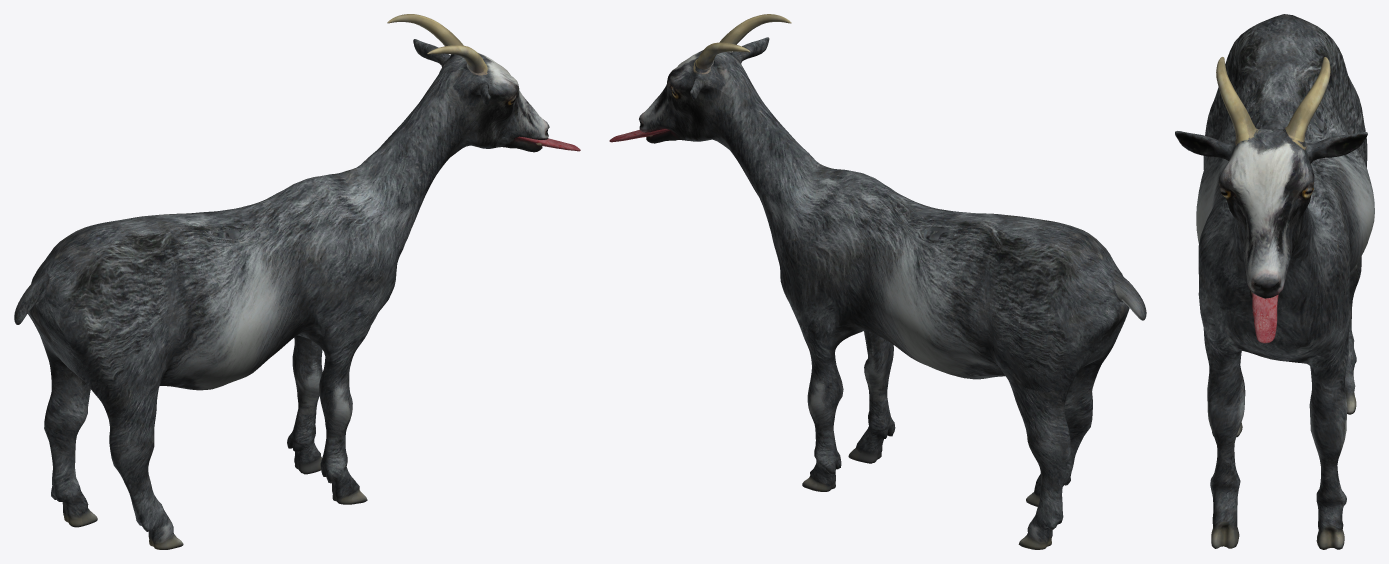
File: Goat.obj
3 renders of one model, left to right at view 1: azimuth 30°, elevation 25°; view 2: azimuth 150°, elevation 25°; view 3: azimuth 270°, elevation 25°, orthographic. The views are drawn at different scales.
Parts seen in each view (by area): view 1: Goat_Mesh; view 2: Goat_Mesh; view 3: Goat_Mesh.
Boxes of the visible parts, bbox=[...] form: Goat_Mesh: bbox=[14, 14, 580, 549]; Goat_Mesh: bbox=[609, 14, 1146, 549]; Goat_Mesh: bbox=[1175, 14, 1374, 549].
Size of the model in its own units: 3.3 by 2.46 by 0.8303.
Materials: 1 (1 with a texture image).
